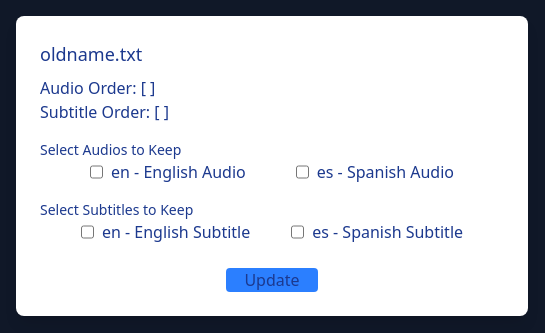
MetadataMergeChangeModal › updates selected audio streams correctly
Expected: the text "Audio Order: [ ]" is shown, [40,77,155,99]
Click the checkbox labelled "en - English Audio" at (96, 172), box [90,160,103,184]
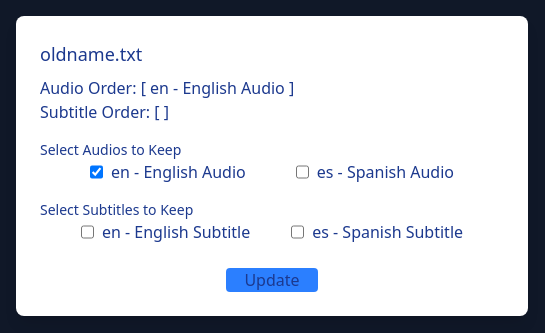
Result: the text "Audio Order: [ en - English Audio ]" is shown at [40,77,294,99]
